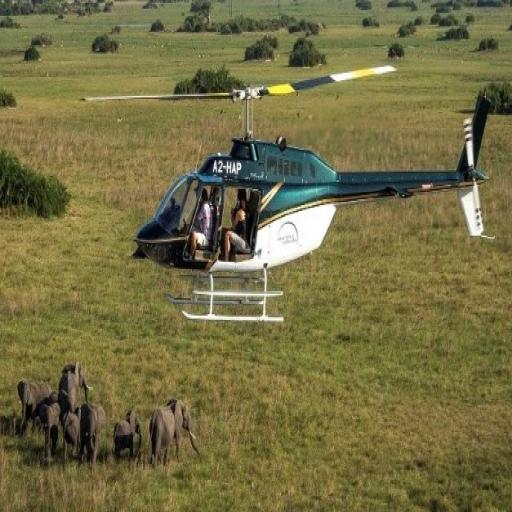helicopter: (99, 49, 498, 334)
